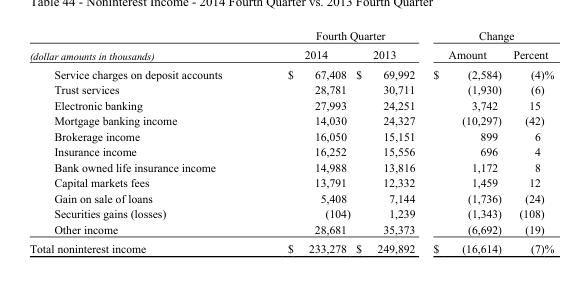table: (28, 28, 553, 254)
table column: (28, 28, 254, 254), (254, 28, 352, 254), (423, 28, 506, 254), (352, 28, 423, 254), (506, 28, 553, 254)
table column header: (28, 28, 553, 64)
table row: (28, 44, 553, 64), (28, 64, 553, 81), (28, 221, 553, 238), (28, 28, 553, 44), (28, 81, 553, 97), (28, 112, 553, 128), (28, 143, 553, 159), (28, 174, 553, 190), (28, 205, 553, 221), (28, 238, 553, 254), (28, 97, 553, 112), (28, 128, 553, 143), (28, 159, 553, 174), (28, 190, 553, 205)
table spanning cell: (28, 28, 254, 64), (254, 28, 423, 44), (423, 28, 553, 44)
